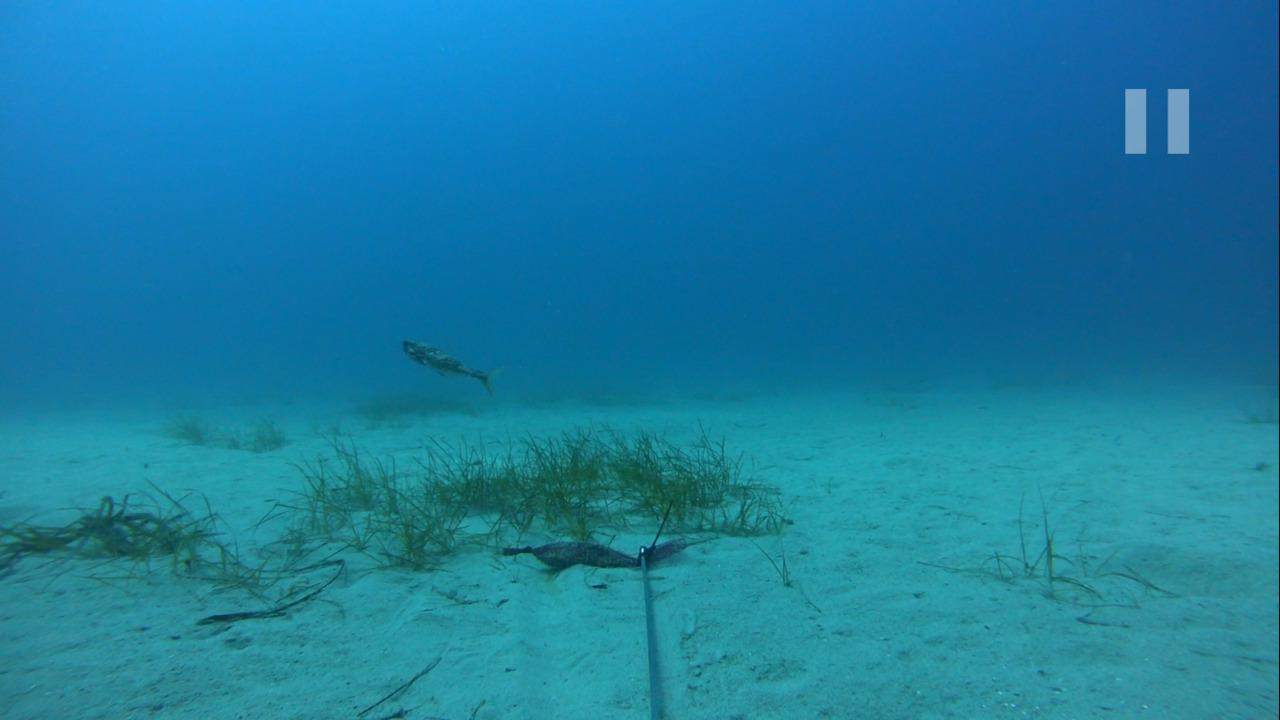dactylopterus: (391, 336, 501, 392)
